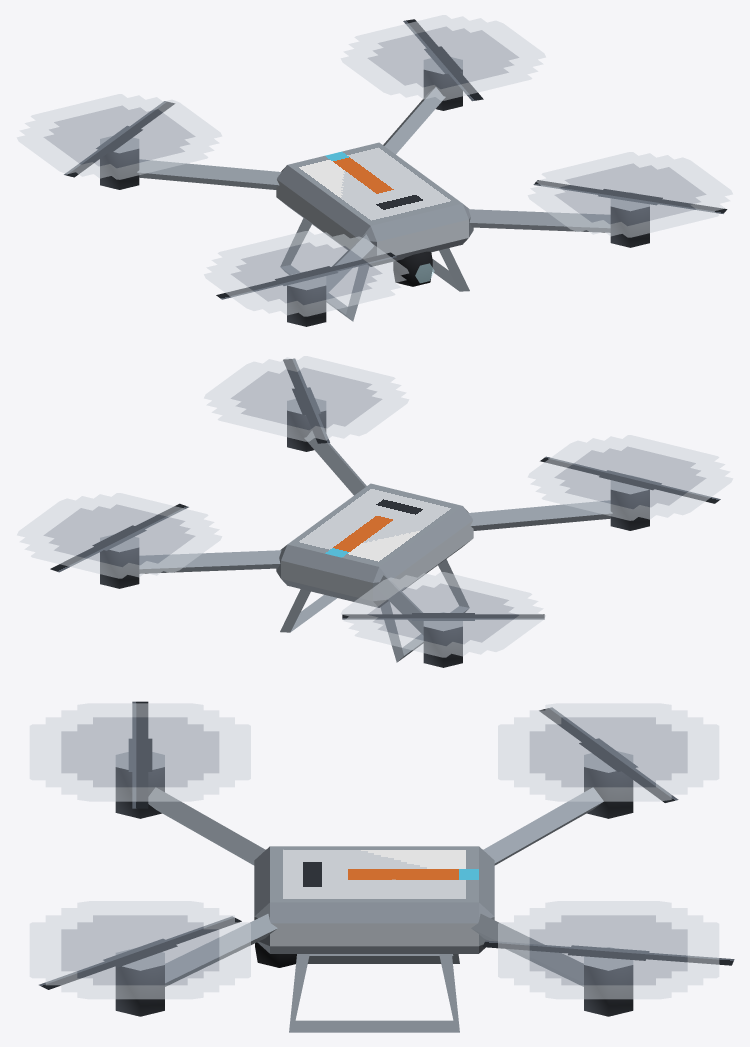
Rendered from play-drone.glb.
3 views of the same model, one above another, from view 1: azimuth 30°, elevation 25°; view 2: azimuth 150°, elevation 25°; view 3: azimuth 270°, elevation 25° (orthographic). The views are drawn at different scales.
Visible parts, largest first — view 1: play.drone; view 2: play.drone; view 3: play.drone.
Boxes of the visible parts, <box> form: play.drone: <box>17,15,732,326</box>; play.drone: <box>17,356,732,667</box>; play.drone: <box>29,701,734,1032</box>.
Bounding box in the file's own units: 1.56 × 0.3448 × 1.54.
Materials: 9 (3 with a texture image).
